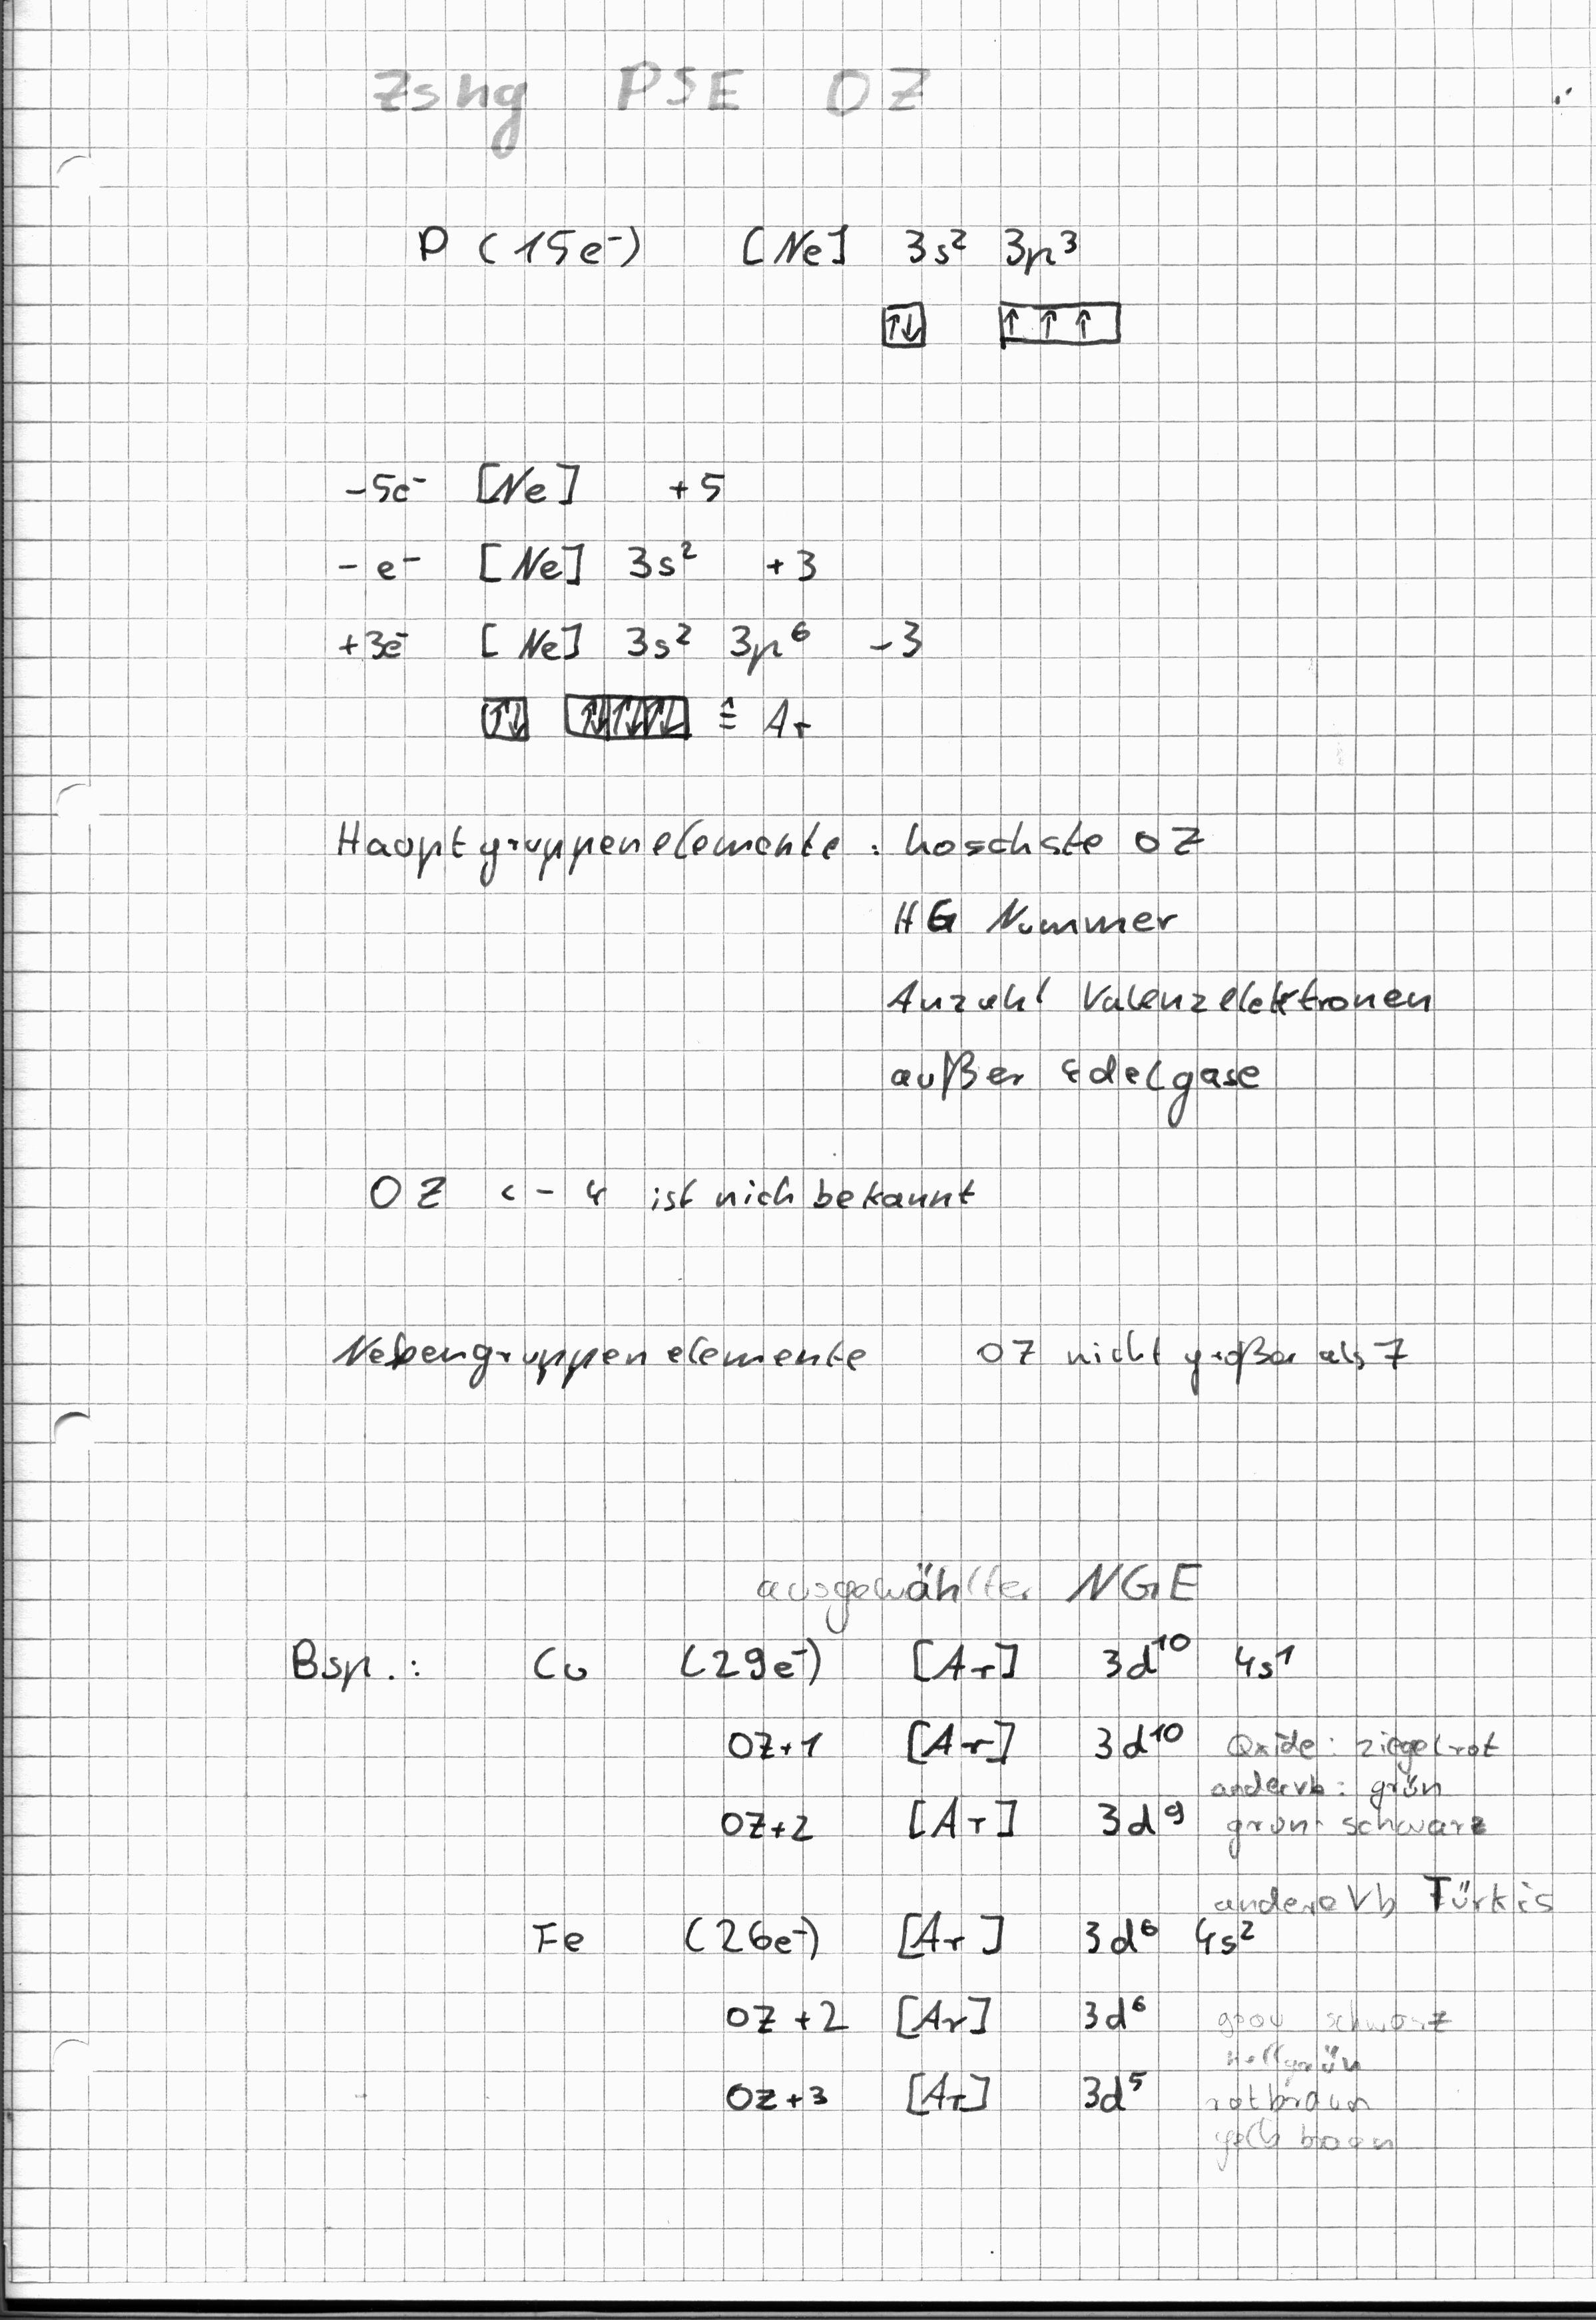word: (881, 808, 1458, 1145), (312, 443, 947, 677), (336, 1133, 1013, 1243), (322, 1295, 900, 1416), (732, 204, 1143, 368), (959, 1298, 1430, 1415), (1071, 1621, 1304, 1854), (318, 800, 886, 896), (1071, 1895, 1271, 2126), (670, 1892, 860, 2126), (663, 1618, 846, 1862), (875, 1887, 1019, 2145), (893, 1622, 1034, 1857), (452, 679, 841, 761), (392, 193, 670, 292), (271, 1609, 442, 1713), (508, 1611, 625, 1717), (510, 1872, 612, 1988)
